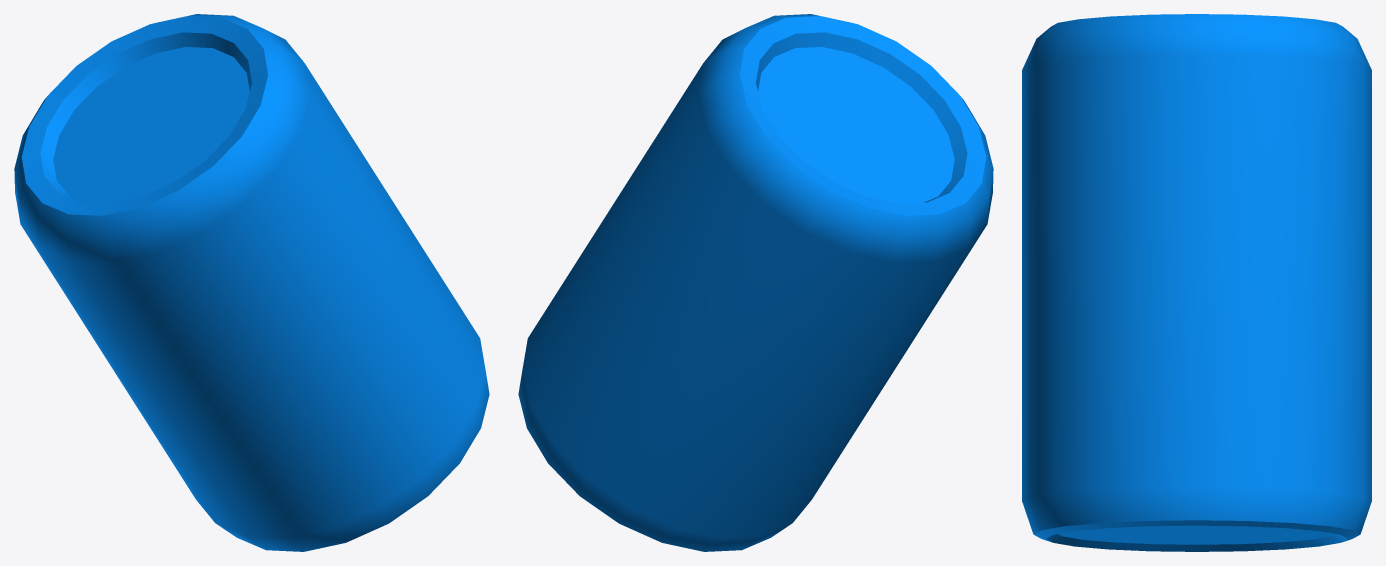
File: soda.glb
3 renders of one model, left to right at view 1: azimuth 30°, elevation 25°; view 2: azimuth 150°, elevation 25°; view 3: azimuth 270°, elevation 25°, orthographic. The views are drawn at different scales.
Size of the model in its own units: 0.8064 by 0.9081 by 0.5328.
